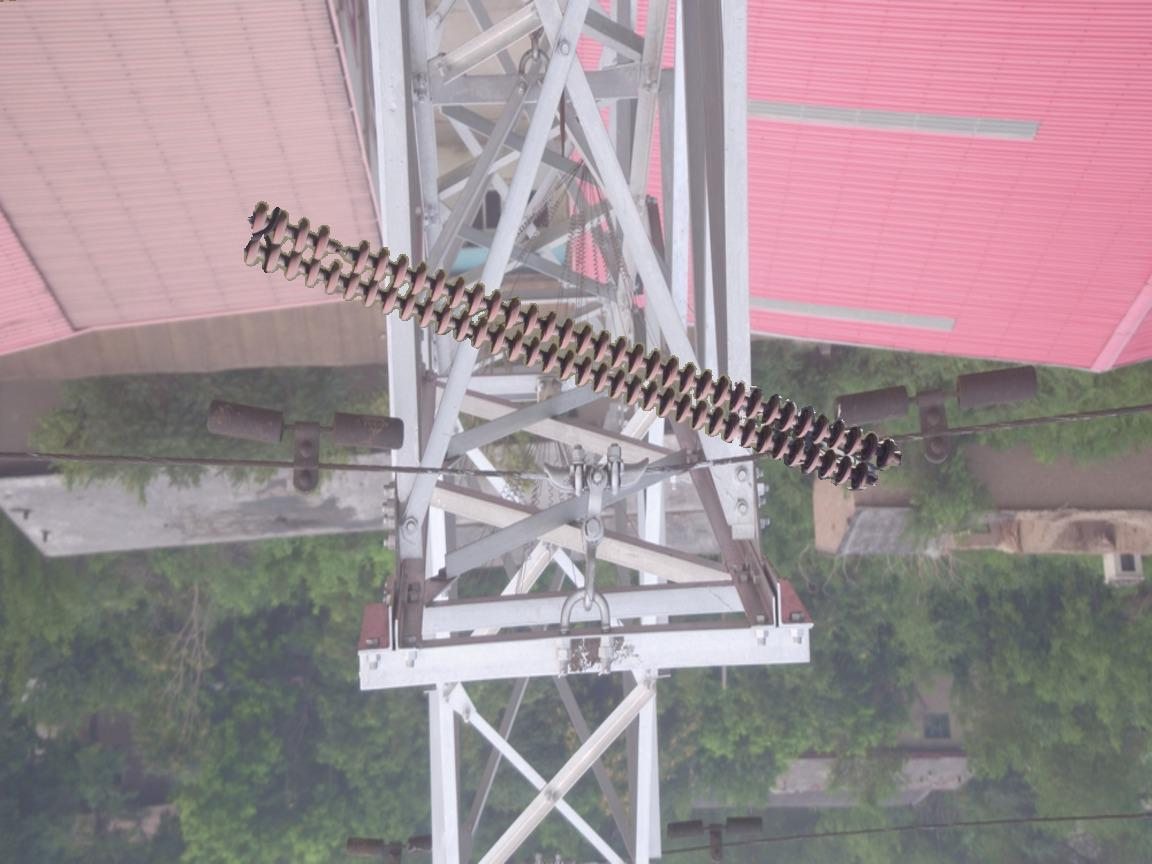insulator: (240, 198, 904, 493)
insulator_stringdrop: (308, 221, 374, 277)
